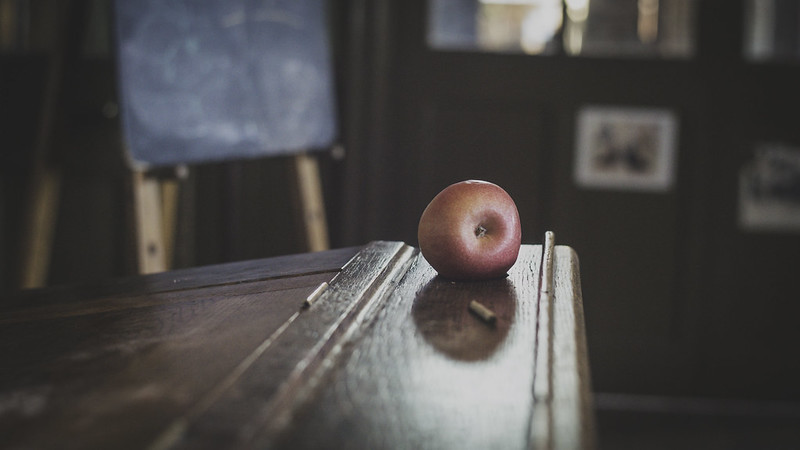apple: (412, 176, 527, 278)
